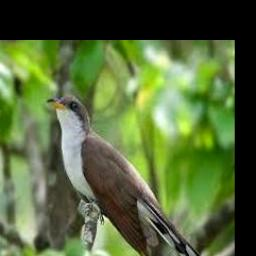Cuckoo: (47, 96, 217, 256)
